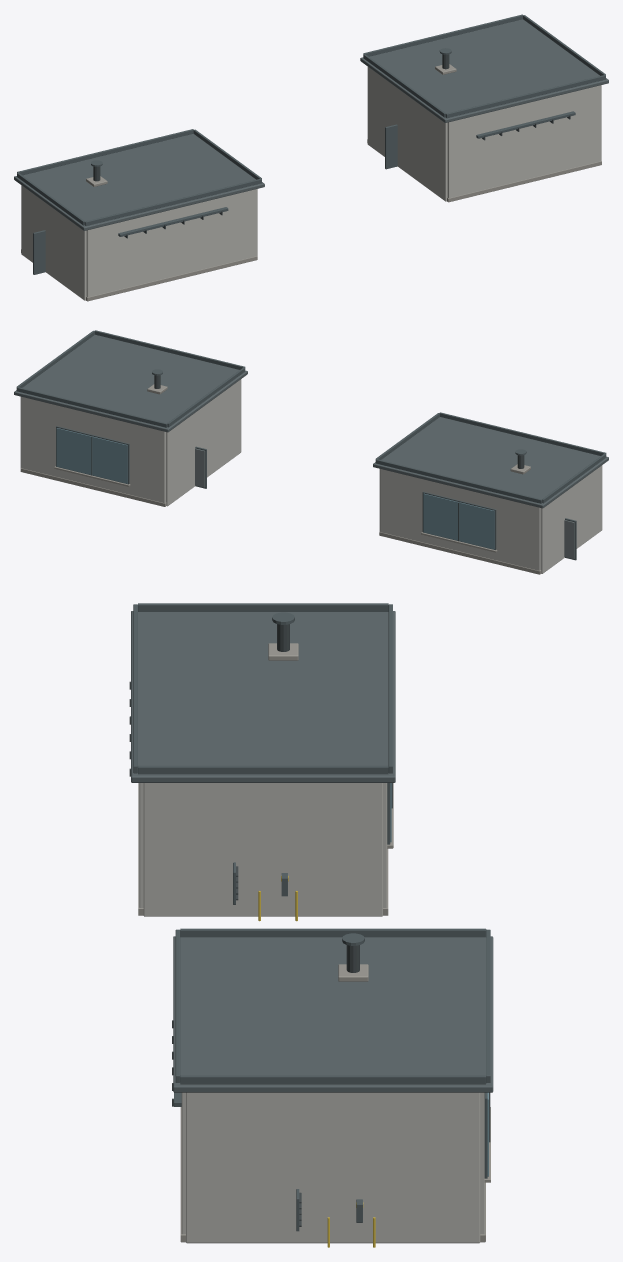
Rendered from process-buildings-mobile.glb.
3 renders of one model, top to bottom at view 1: azimuth 30°, elevation 25°; view 2: azimuth 150°, elevation 25°; view 3: azimuth 270°, elevation 25°, orthographic. The views are drawn at different scales.
Visible parts, largest first — view 1: PROCESS_ROOF, OPS_ROOF, PROCESS_BACK, OPS_BACK, PROCESS_LEFT, OPS_LEFT, OPS_EAVE_1, OPS_EAVE_0, PROCESS_EAVE_1, PROCESS_EAVE_0, OPS_PLINTH_BACK, PROCESS_PLINTH_BACK (+8 smaller); view 2: PROCESS_ROOF, OPS_ROOF, PROCESS_FRONT, OPS_FRONT, PROCESS_LEFT, OPS_LEFT, PROCESS_WINDOW_GLASS, OPS_WINDOW_GLASS, OPS_EAVE_0, OPS_EAVE_1, PROCESS_EAVE_0, PROCESS_EAVE_1 (+10 smaller); view 3: PROCESS_ROOF, PROCESS_RIGHT, OPS_ROOF, OPS_RIGHT, PROCESS_EAVE_3, PROCESS_EAVE_2, OPS_EAVE_3, OPS_EAVE_2, PROCESS_EAVE_1, OPS_EAVE_1, OPS_EAVE_0.
Part boxes in pixels (<box>): PROCESS_ROOF: <box>360,19,608,122</box>; OPS_ROOF: <box>14,133,264,230</box>; PROCESS_BACK: <box>447,85,600,198</box>; OPS_BACK: <box>86,189,256,297</box>; PROCESS_LEFT: <box>367,67,447,201</box>; OPS_LEFT: <box>21,185,86,300</box>; OPS_EAVE_1: <box>84,178,261,225</box>; OPS_EAVE_0: <box>17,129,193,175</box>; PROCESS_EAVE_1: <box>445,75,605,117</box>; PROCESS_EAVE_0: <box>363,14,523,56</box>; OPS_PLINTH_BACK: <box>86,256,257,301</box>; PROCESS_PLINTH_BACK: <box>447,161,601,202</box>; PROCESS_ROOF: <box>14,334,247,432</box>; OPS_ROOF: <box>373,417,608,508</box>; PROCESS_FRONT: <box>21,397,165,502</box>; OPS_FRONT: <box>380,469,540,570</box>; PROCESS_LEFT: <box>166,379,241,506</box>; OPS_LEFT: <box>540,465,602,573</box>; PROCESS_WINDOW_GLASS: <box>56,428,127,483</box>; OPS_WINDOW_GLASS: <box>423,493,494,549</box>; OPS_EAVE_0: <box>375,459,542,503</box>; OPS_EAVE_1: <box>439,412,606,455</box>; PROCESS_EAVE_0: <box>16,387,167,427</box>; PROCESS_EAVE_1: <box>94,330,245,369</box>; PROCESS_ROOF: <box>173,936,493,1092</box>; PROCESS_RIGHT: <box>186,1092,480,1243</box>; OPS_ROOF: <box>131,611,395,782</box>; OPS_RIGHT: <box>143,783,382,916</box>; PROCESS_EAVE_3: <box>180,1075,486,1084</box>; PROCESS_EAVE_2: <box>180,928,486,937</box>; OPS_EAVE_3: <box>138,765,388,774</box>; OPS_EAVE_2: <box>138,603,388,611</box>; PROCESS_EAVE_1: <box>175,929,180,1082</box>; OPS_EAVE_1: <box>133,604,137,773</box>; OPS_EAVE_0: <box>388,604,392,773</box>.
Bounding box in the file's own units: 32.57 × 6.08 × 9.88.
